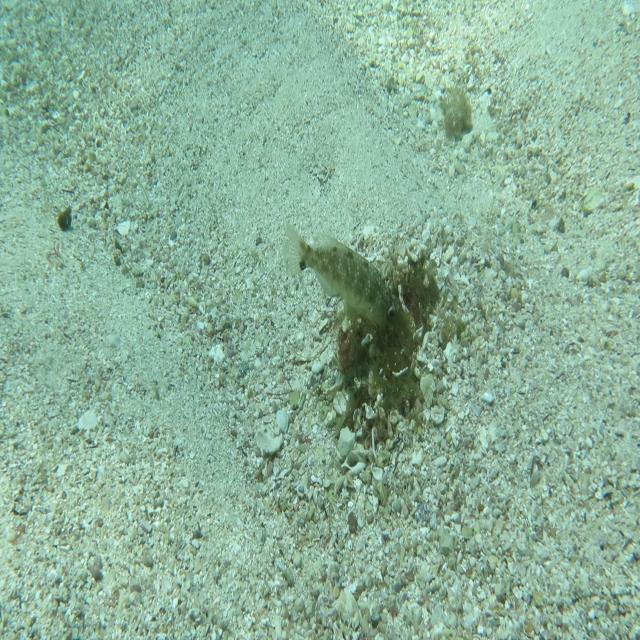NIP_CORE: (281, 222, 403, 331)
nest: (330, 247, 446, 448)
vegetation: (440, 87, 473, 146), (56, 200, 76, 231)
